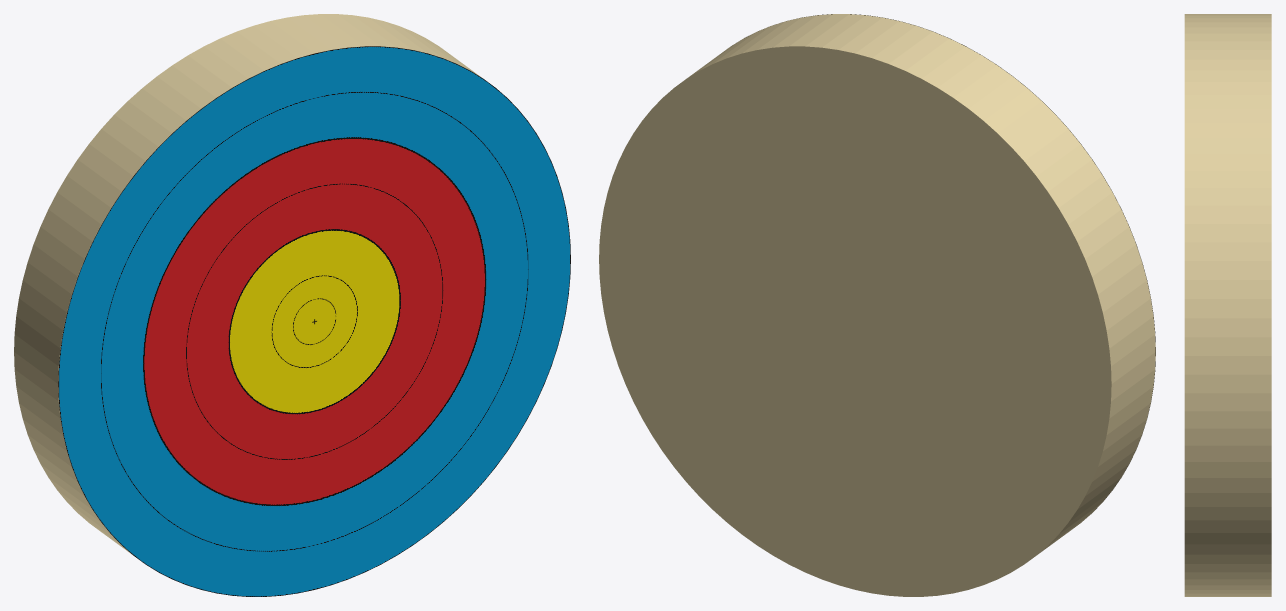
File: target.fbx
The picture shows the model from 3 angles, left to right: view 1: azimuth 30°, elevation 25°; view 2: azimuth 150°, elevation 25°; view 3: azimuth 270°, elevation 25°; orthographic projection.
Visible parts, largest first — view 1: archery_target; view 2: archery_target; view 3: archery_target.
Part boxes in pixels (box(x1,y1,x2,y2)): archery_target: box(14, 14, 570, 596); archery_target: box(599, 14, 1155, 596); archery_target: box(1184, 14, 1271, 596).
Bounding box in the file's own units: 80 × 80 × 12.
Materials: 2 (1 with a texture image).
